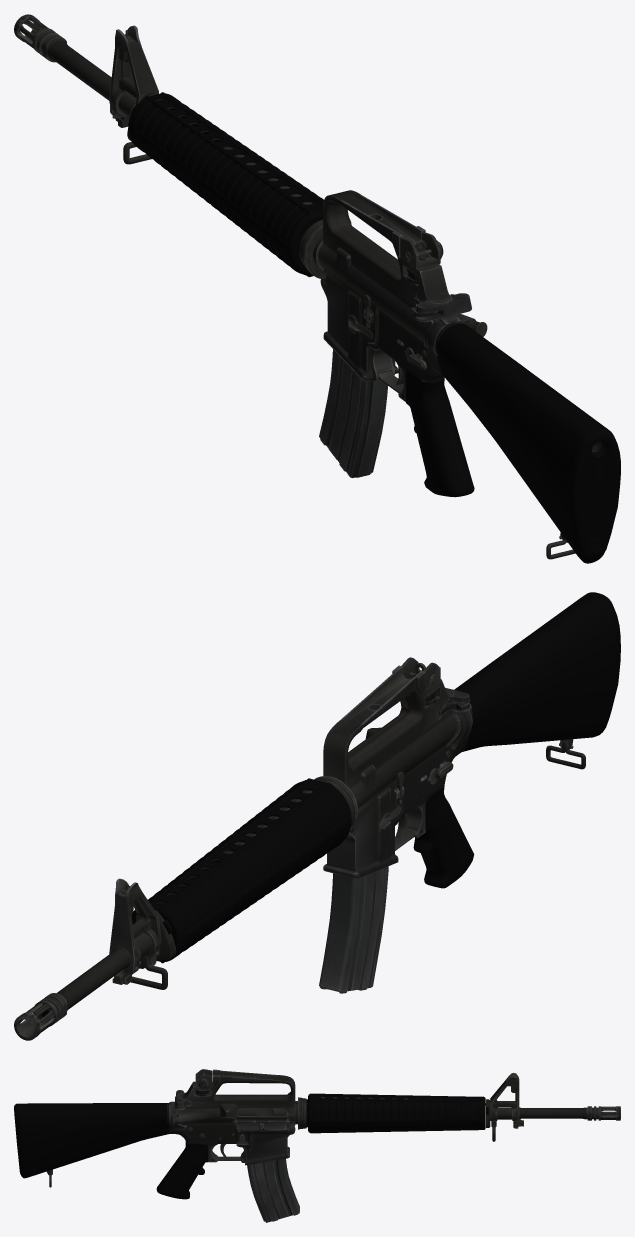
3 views of the same model, one above another, from view 1: azimuth 30°, elevation 25°; view 2: azimuth 150°, elevation 25°; view 3: azimuth 270°, elevation 25° (orthographic). The views are drawn at different scales.
Parts seen in each view (by area): view 1: m16a2_base_m16a2_0, magazine_m16a2_0, m16a2_chargehandle_m16a2_0; view 2: m16a2_base_m16a2_0, magazine_m16a2_0; view 3: m16a2_base_m16a2_0, magazine_m16a2_0, m16a2_ejection_port_cover_m16a2_0, m16a2_bolt_m16a2_0.
Boxes of the visible parts, x1,y1,x2,y2 form: m16a2_base_m16a2_0: (14,14,620,563); magazine_m16a2_0: (319,349,387,477); m16a2_chargehandle_m16a2_0: (414,293,471,321); m16a2_base_m16a2_0: (14,592,620,1040); magazine_m16a2_0: (319,866,388,993); m16a2_base_m16a2_0: (14,1069,620,1199); magazine_m16a2_0: (247,1158,299,1222); m16a2_ejection_port_cover_m16a2_0: (232,1120,294,1130); m16a2_bolt_m16a2_0: (236,1108,286,1115).
Bounding box in the file's own units: 0.0806 × 0.2884 × 1.07.
1 material, 1 textured.
